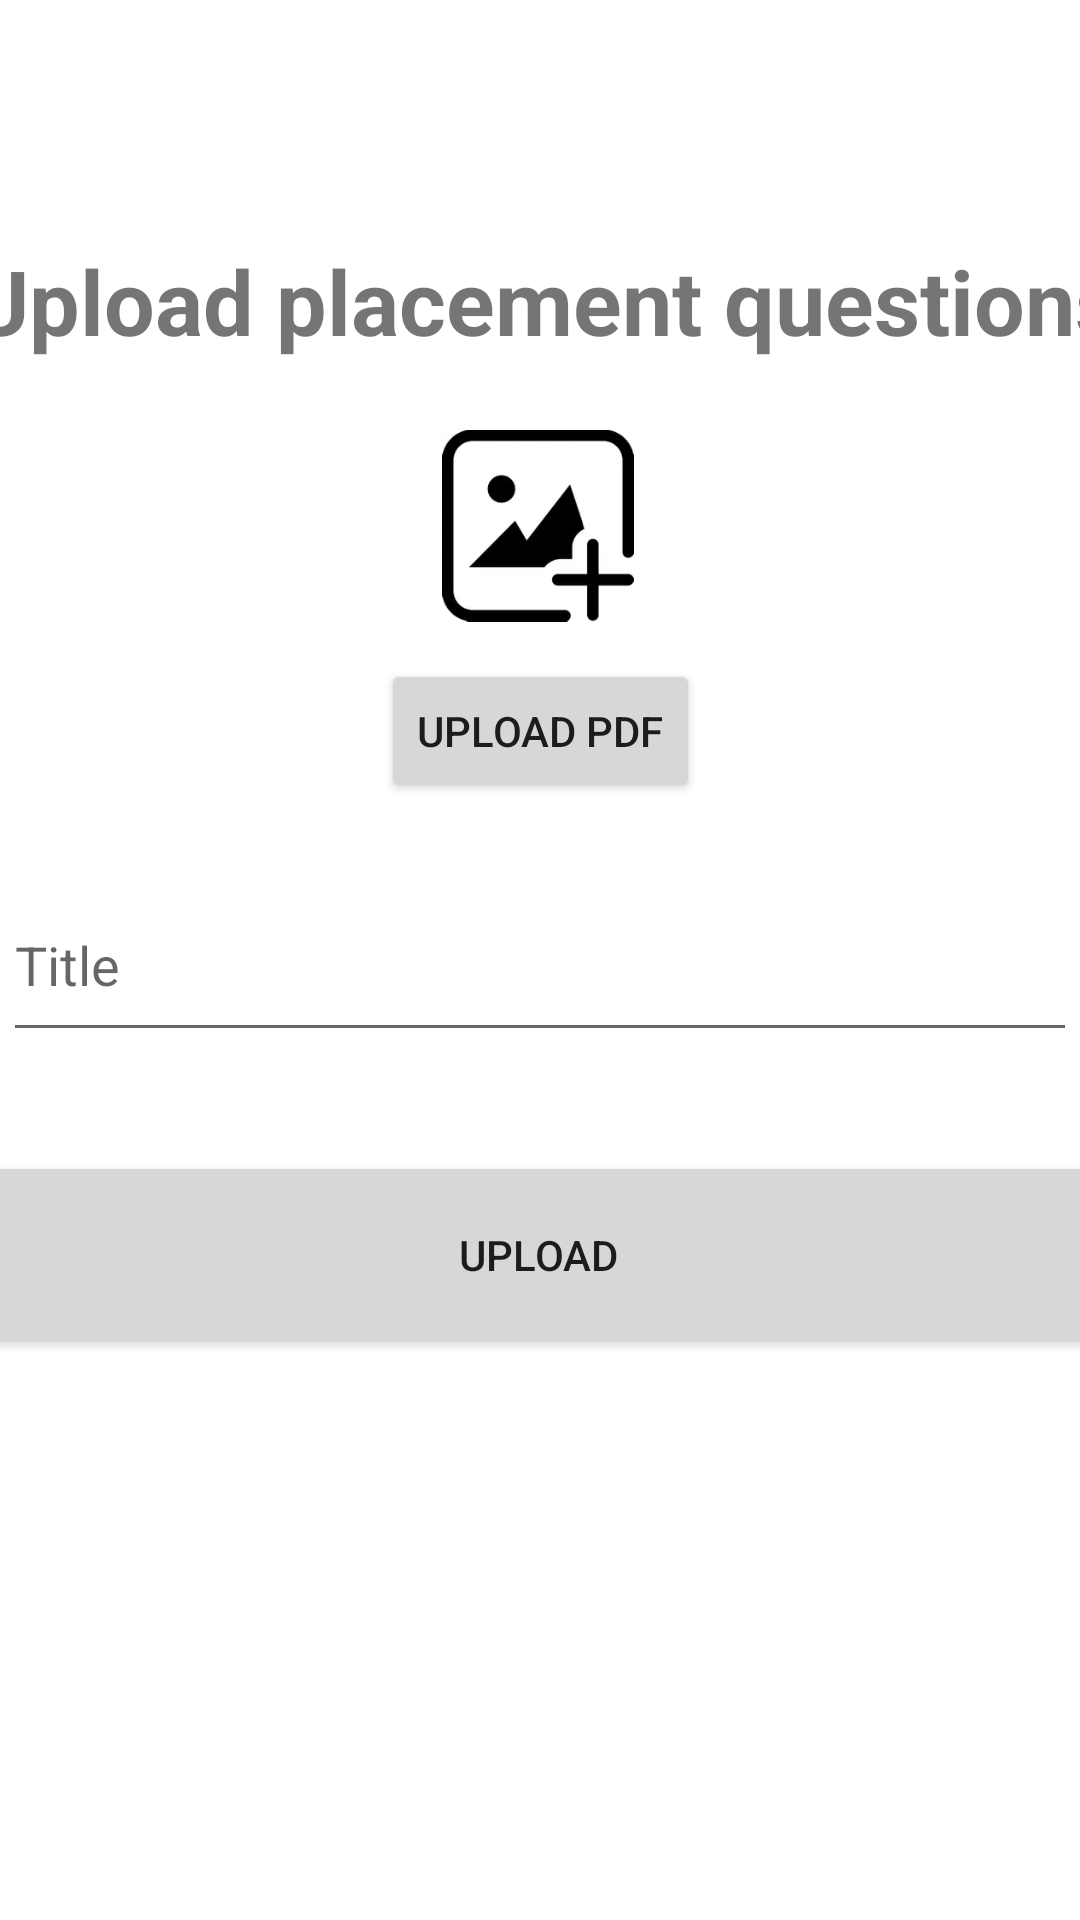

Icon bounding boxes for this 1080x1920 phone screenshot, format (x1, y1, x2, y2):
uploadpic: (442, 430, 634, 622)
